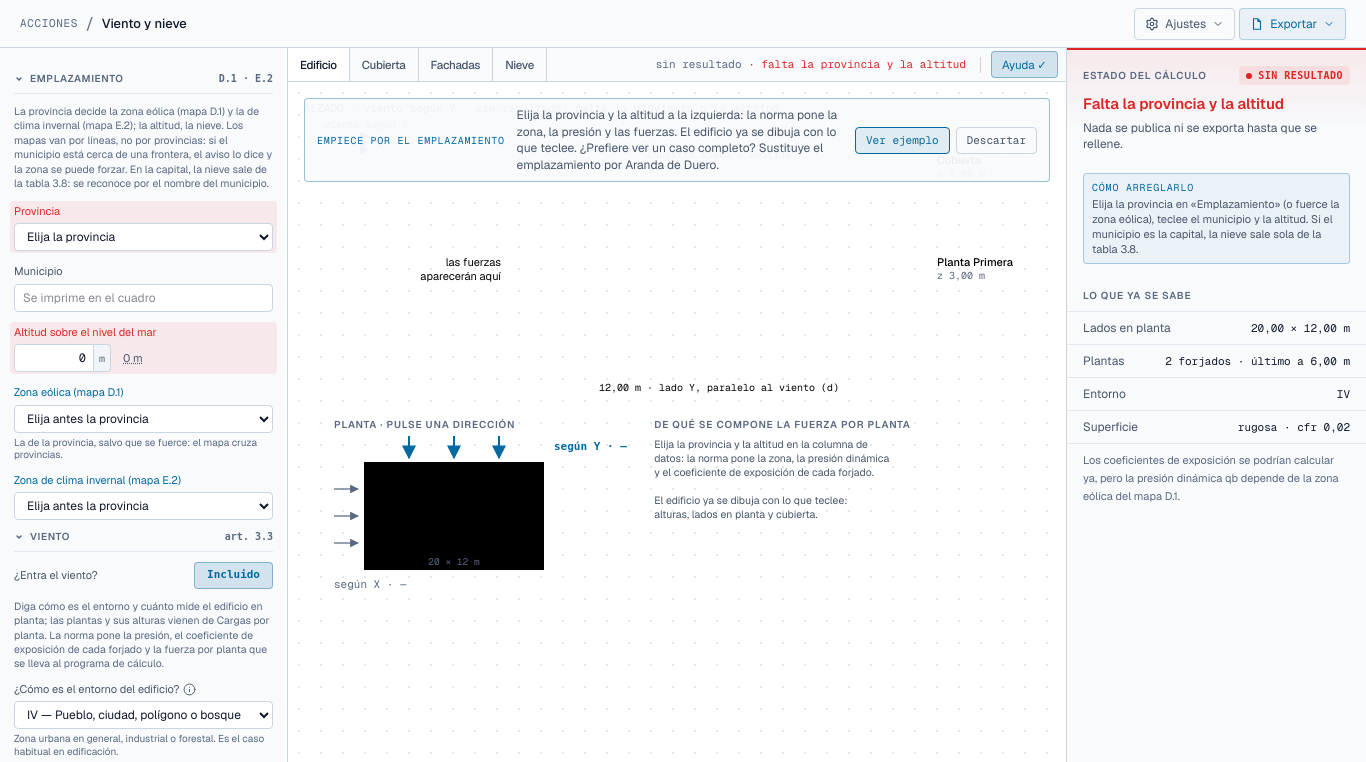
Test: Viento y nieve — módulo › el atajo «0 m» fija la altitud y el estado pasa a viento y nieve
The width and height of the screenshot is (1366, 762).
Select "Barcelona" in the dropdown named "Provincia": (144, 237) 14,223 -> 273,251
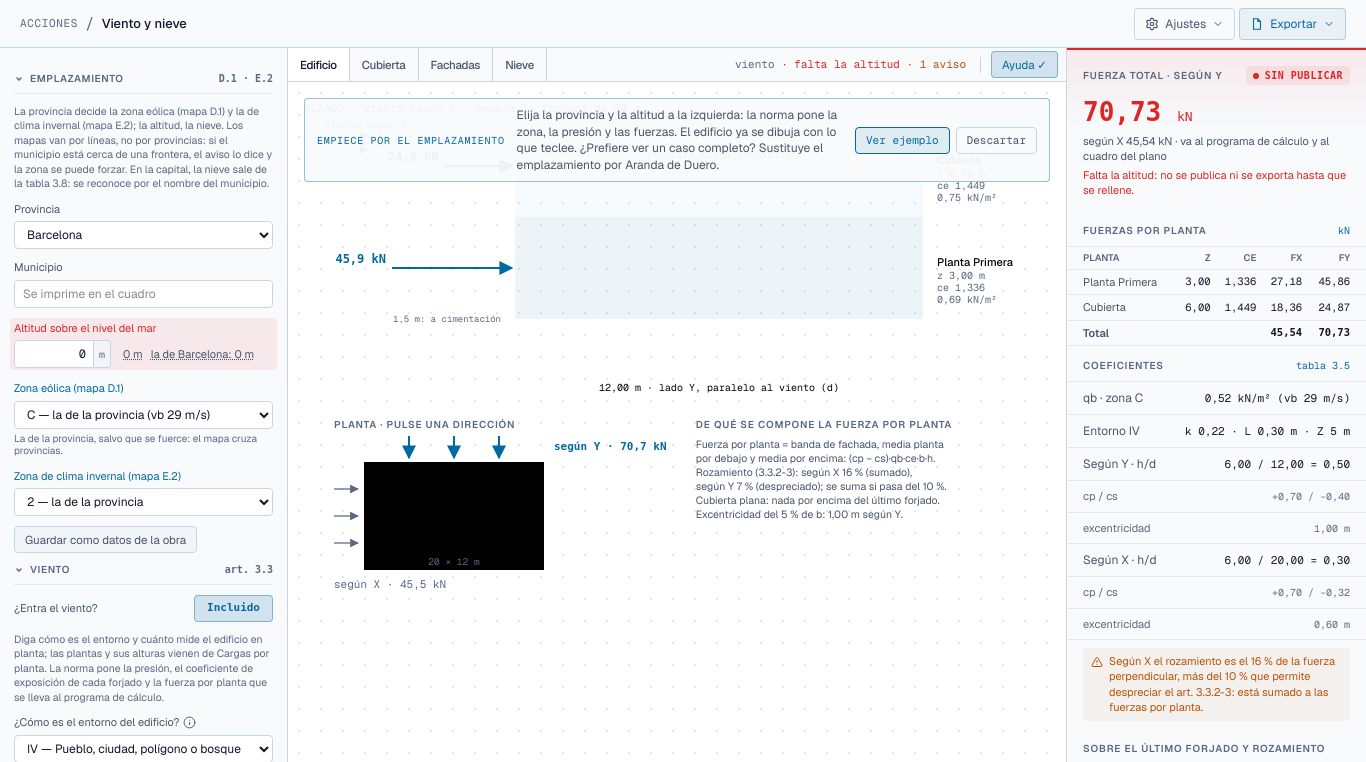
Click the button "0 m": (133, 354) 123,346 -> 143,362
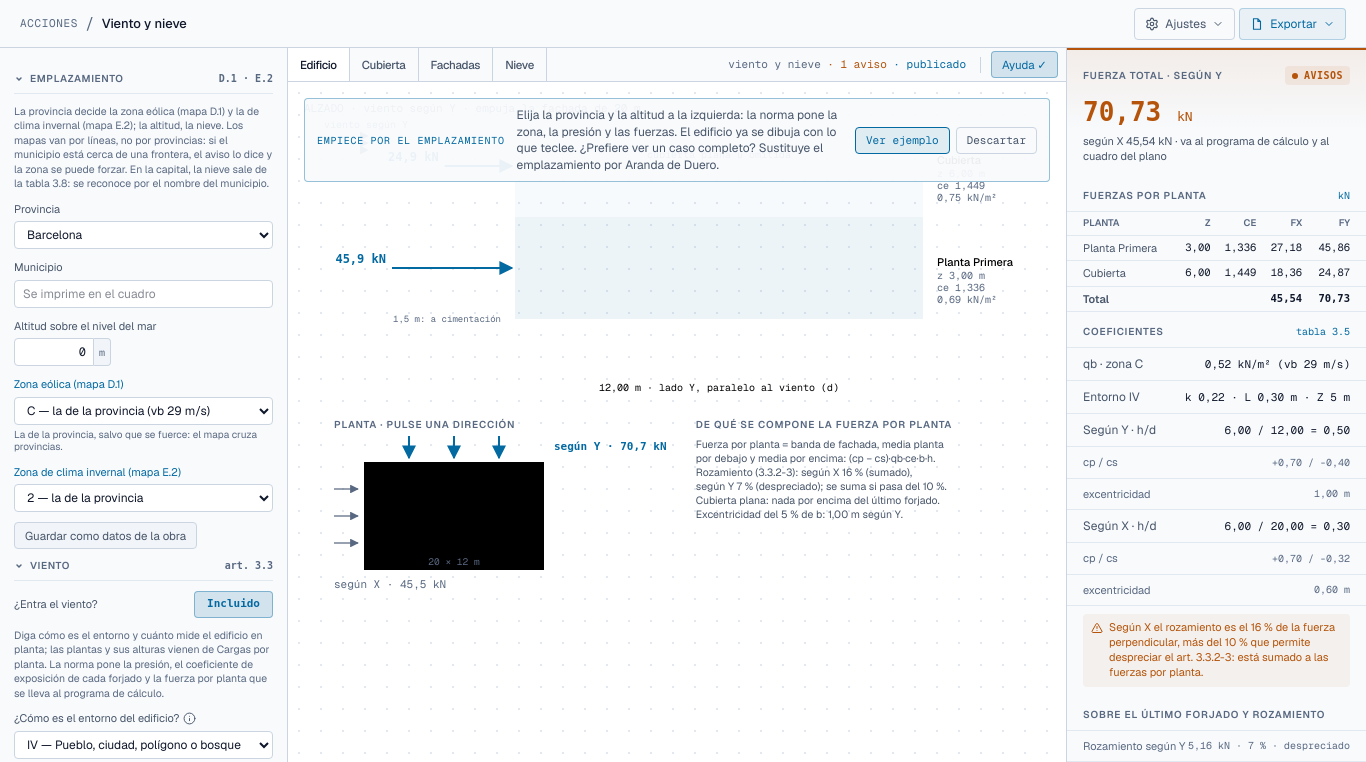
Expected: the text "qb · zona C" is shown, 1083,355 -> 1143,373
Expected: the text "falta la altitud" is gone
Expected: the text "viento y nieve" is shown, 728,57 -> 821,71
